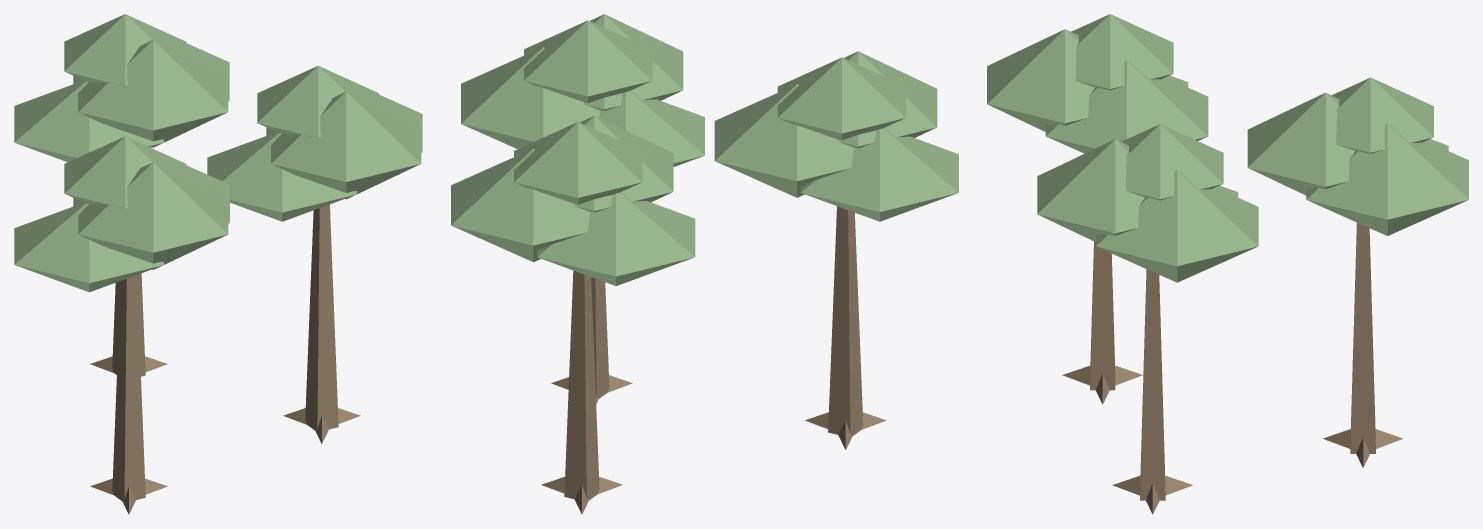
File: grove-1.glb
3 renders of one model, left to right at view 1: azimuth 30°, elevation 25°; view 2: azimuth 150°, elevation 25°; view 3: azimuth 270°, elevation 25°, orthographic. The views are drawn at different scales.
Bounding box in the file's own units: 5.28 × 4.09 × 4.81.
